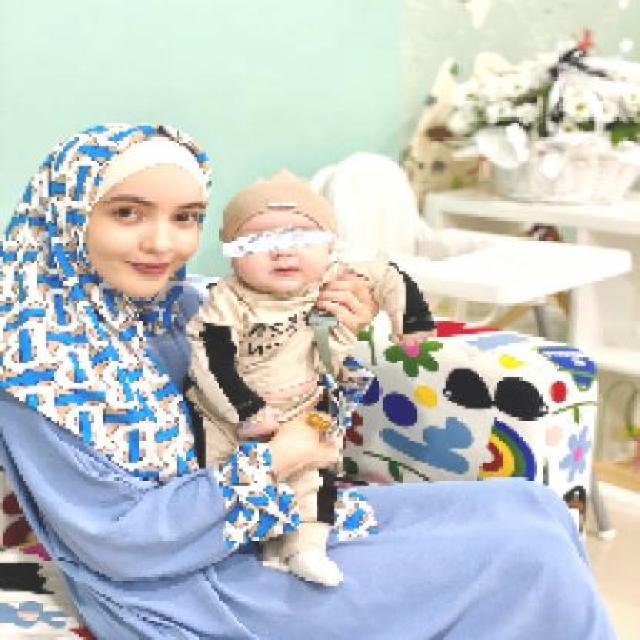child: (180, 167, 440, 587)
